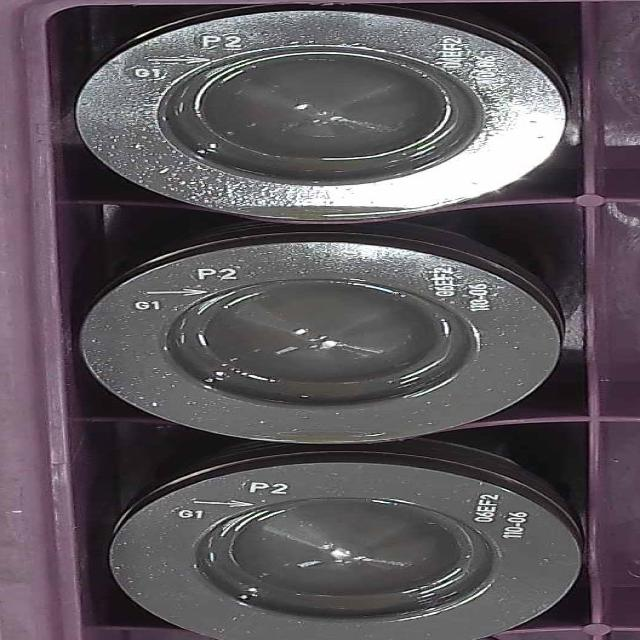P2: (103, 230, 536, 448), (88, 22, 559, 214), (103, 467, 609, 640)
